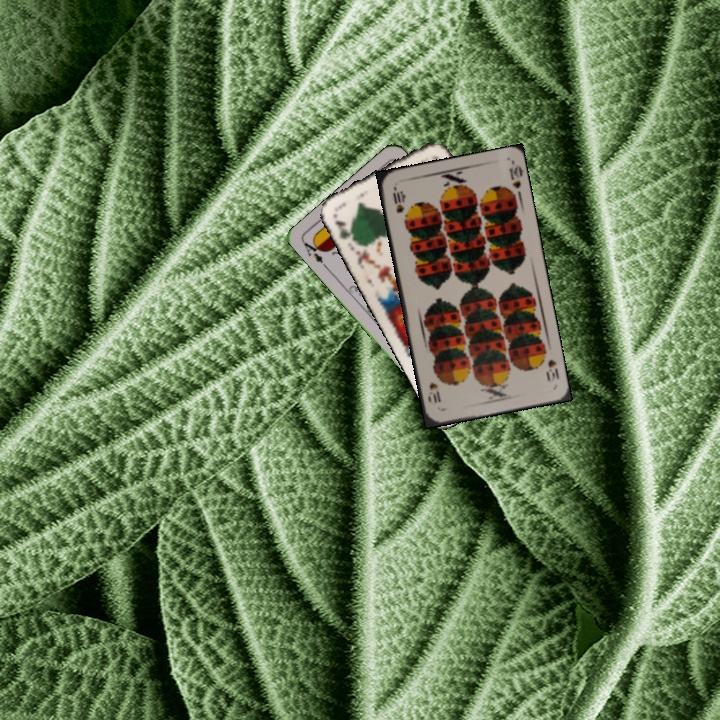EA: (299, 236, 330, 271)
GK: (330, 215, 359, 245)
S10: (542, 356, 562, 384), (389, 184, 407, 215)
